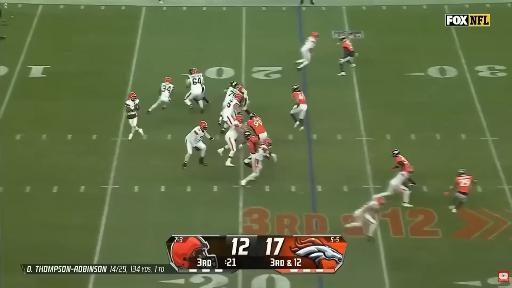Helmet: (243, 130, 252, 139), (405, 165, 414, 174), (375, 197, 385, 205), (199, 121, 207, 130), (263, 138, 271, 147), (235, 94, 243, 103), (129, 92, 137, 100), (292, 84, 300, 92), (230, 81, 238, 88), (392, 150, 400, 157), (236, 85, 243, 92), (236, 115, 242, 123), (458, 169, 466, 175), (190, 68, 198, 74), (311, 32, 318, 38), (340, 36, 346, 42), (250, 113, 256, 118), (166, 77, 171, 83)
Jersey: (186, 127, 210, 143), (357, 201, 379, 218), (223, 87, 238, 107), (248, 117, 265, 134), (456, 176, 473, 193), (223, 98, 239, 115), (189, 74, 203, 93), (125, 99, 139, 118), (395, 155, 411, 171), (245, 136, 258, 154), (391, 172, 409, 185), (237, 86, 248, 106), (254, 145, 268, 160), (292, 91, 306, 105), (161, 83, 174, 97), (228, 121, 240, 135), (304, 37, 316, 49), (342, 41, 353, 52)
Player: (345, 197, 385, 240), (183, 121, 215, 169), (377, 167, 413, 207), (241, 138, 271, 185), (218, 116, 242, 166), (449, 169, 476, 213), (184, 68, 209, 112), (147, 77, 174, 113), (125, 92, 143, 140), (296, 32, 318, 71), (221, 93, 242, 133), (291, 85, 307, 130), (240, 131, 258, 167), (338, 37, 355, 75), (247, 113, 267, 141), (248, 113, 267, 140), (222, 81, 239, 111), (235, 82, 250, 114), (392, 150, 411, 171)
